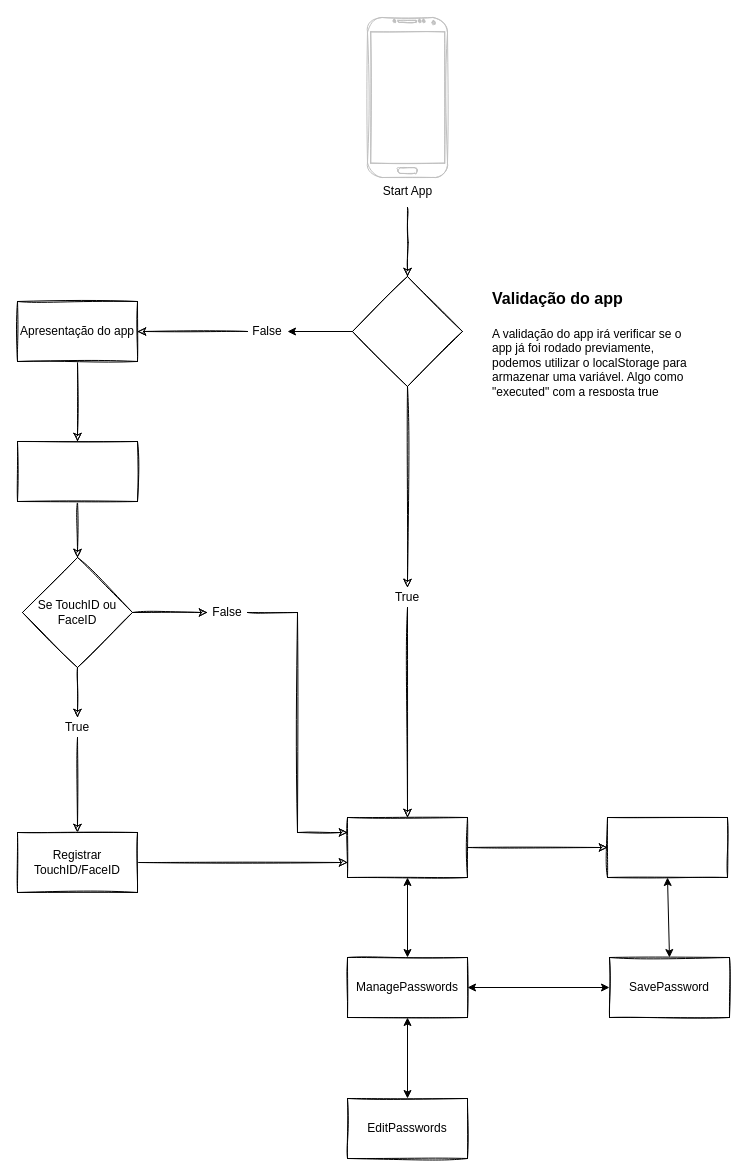
Some shapes in this 747 by 1176 pixel diagram are drawn without their labels. Here are the shapes that lost their labels. From the top down, the box of each, then its label:
(352, 276, 462, 386): Se executed
(16, 440, 138, 502): Cadastro SenhaMestre
(346, 816, 468, 878): MainPage
(606, 816, 728, 878): CreatePassword
